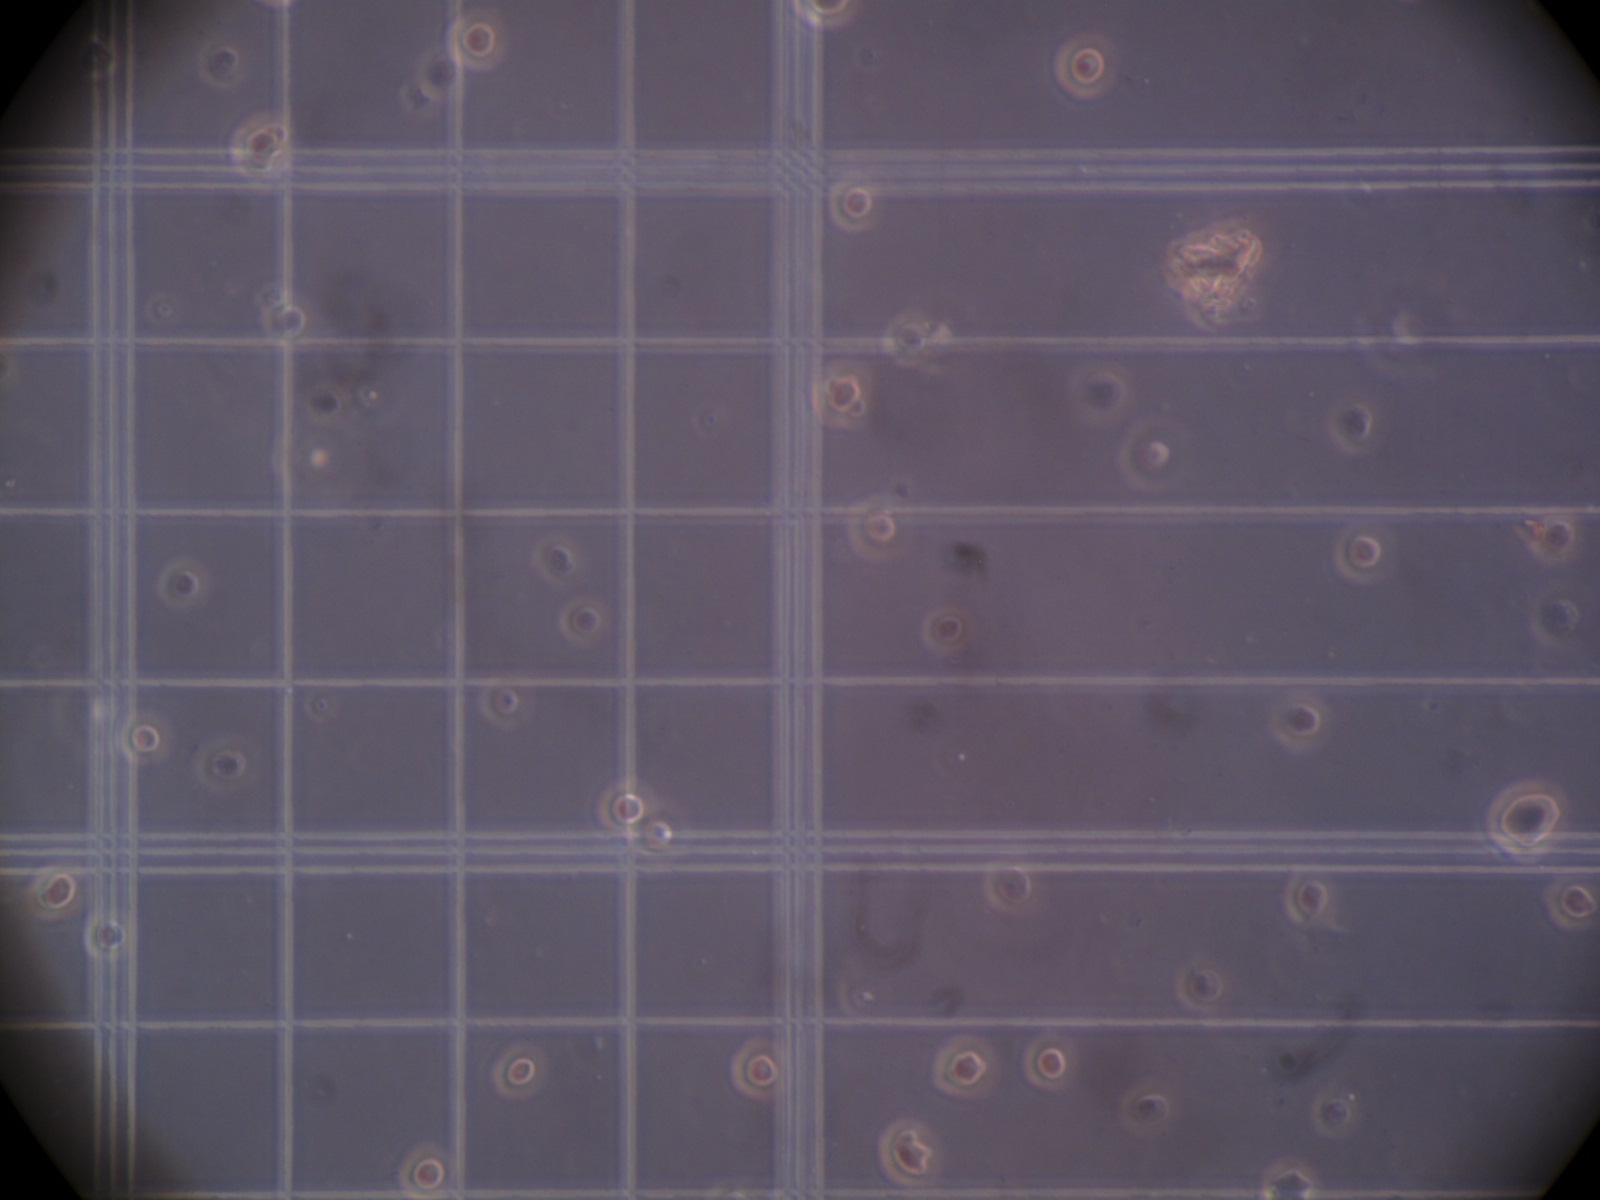hemo: (1487, 780, 1570, 865), (1116, 415, 1194, 495), (229, 111, 296, 189), (1053, 29, 1119, 103), (876, 1117, 942, 1189), (1070, 358, 1136, 424), (934, 1035, 999, 1098), (849, 495, 910, 563), (627, 799, 690, 863), (440, 11, 506, 72), (811, 361, 871, 429), (1332, 524, 1397, 584), (1329, 395, 1390, 458), (1529, 584, 1584, 653), (1267, 695, 1332, 751), (731, 1039, 786, 1104), (1116, 1082, 1178, 1139), (21, 865, 84, 921), (396, 1141, 455, 1200), (193, 737, 256, 793), (260, 295, 320, 350), (491, 1042, 549, 1099), (829, 175, 884, 234), (1285, 871, 1340, 928), (1175, 957, 1231, 1013), (155, 556, 212, 610), (983, 863, 1041, 916), (881, 309, 932, 368), (1020, 1037, 1076, 1092), (480, 677, 534, 731), (1545, 879, 1600, 932), (598, 776, 655, 828), (416, 45, 465, 105), (118, 708, 171, 763), (922, 603, 978, 654), (558, 594, 610, 648), (1260, 1155, 1319, 1200), (198, 34, 244, 89), (83, 911, 134, 961), (1527, 516, 1577, 563), (534, 532, 581, 584), (1313, 1087, 1356, 1141), (791, 1, 862, 32), (78, 38, 118, 81)
